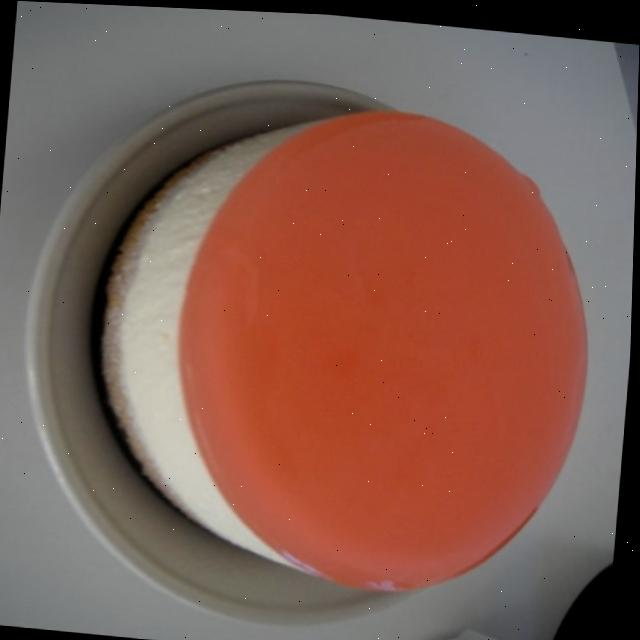蛋糕甜品: (20, 46, 601, 638)
